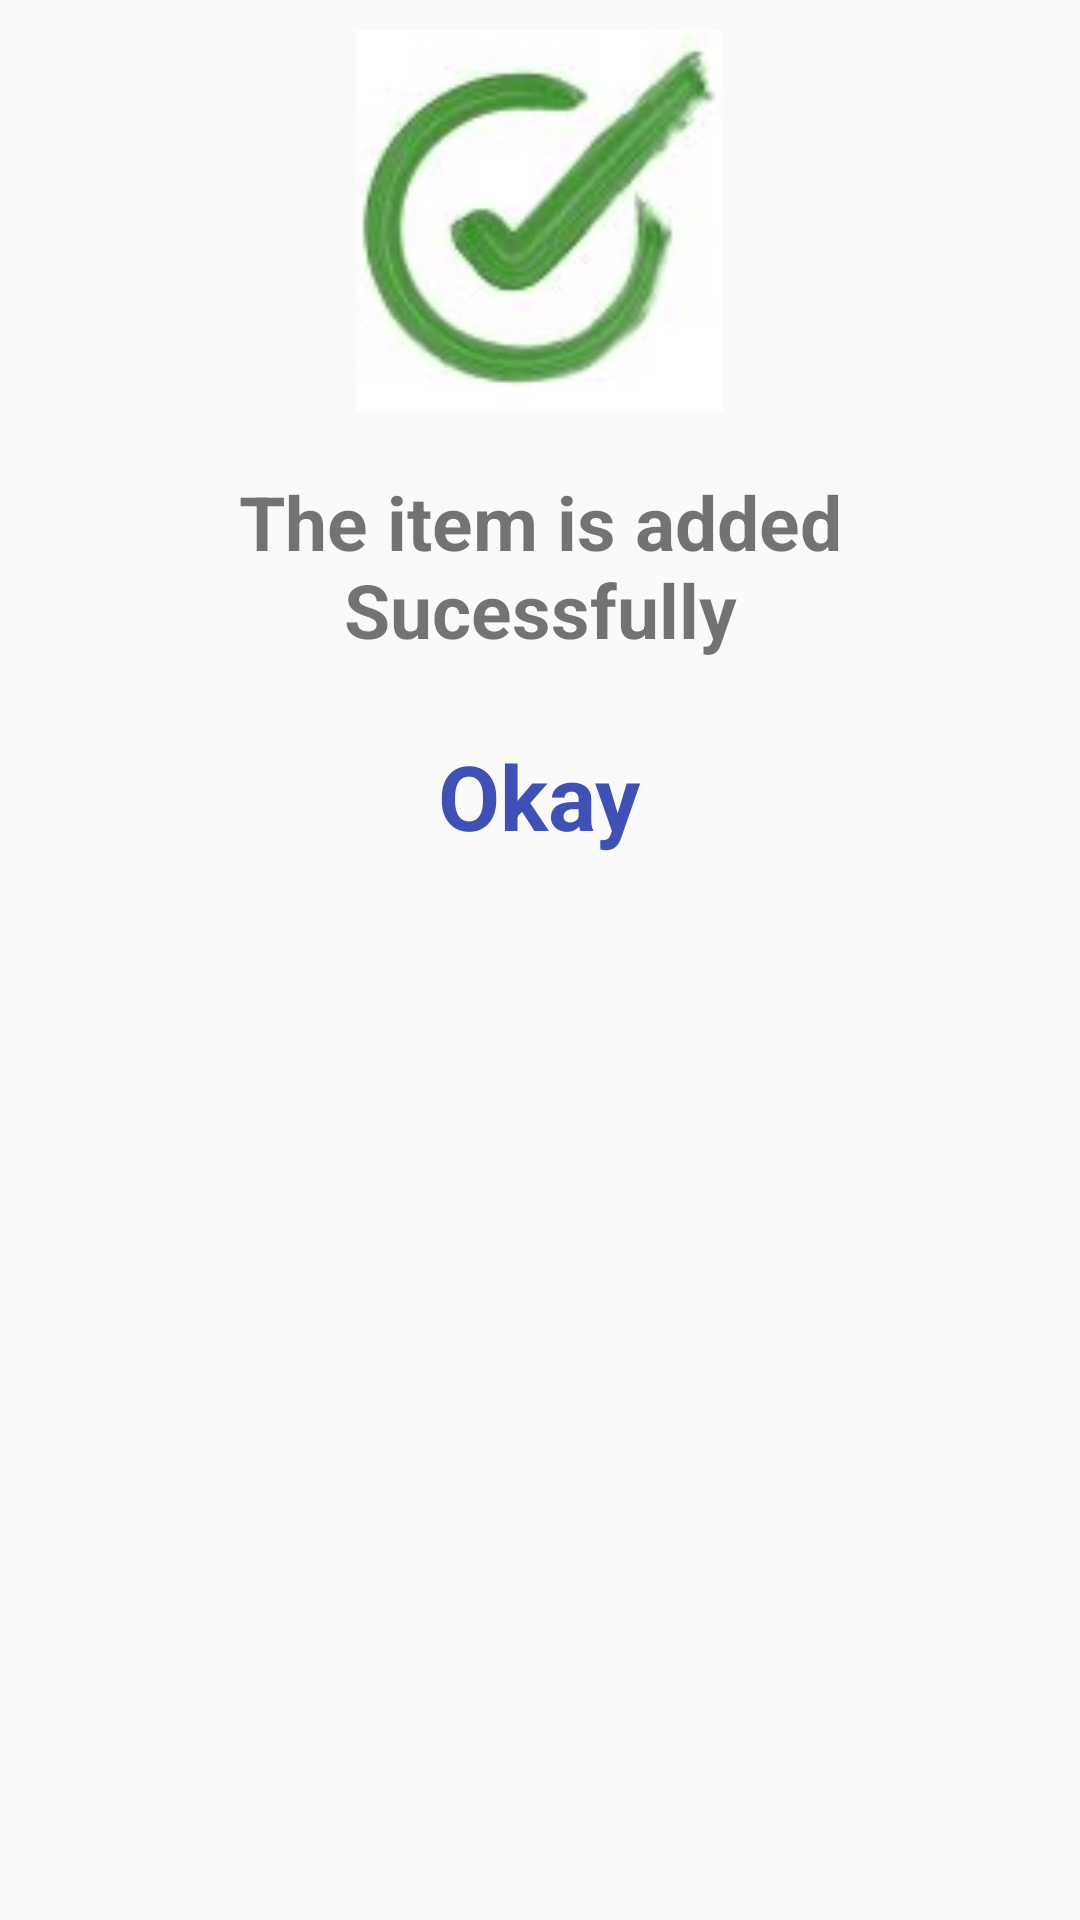

Named icons in this screenshot (1080 x 1920) and their centers, point (x, y):
tick mark: point (537, 217)
